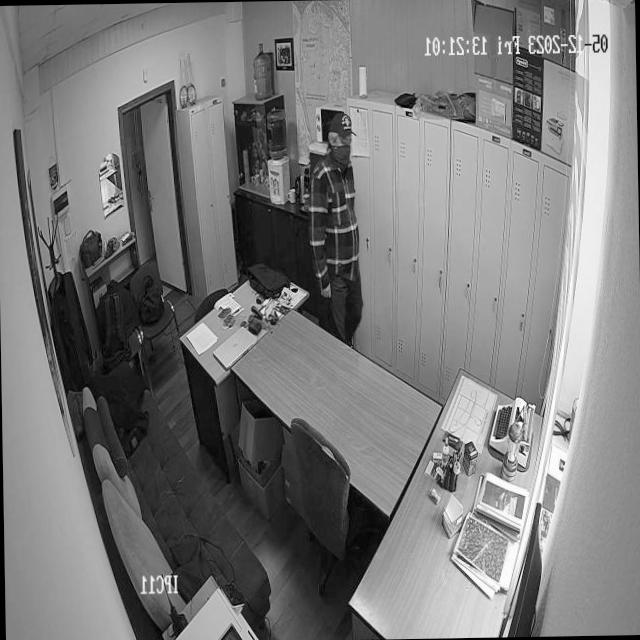person: (304, 103, 362, 358)
